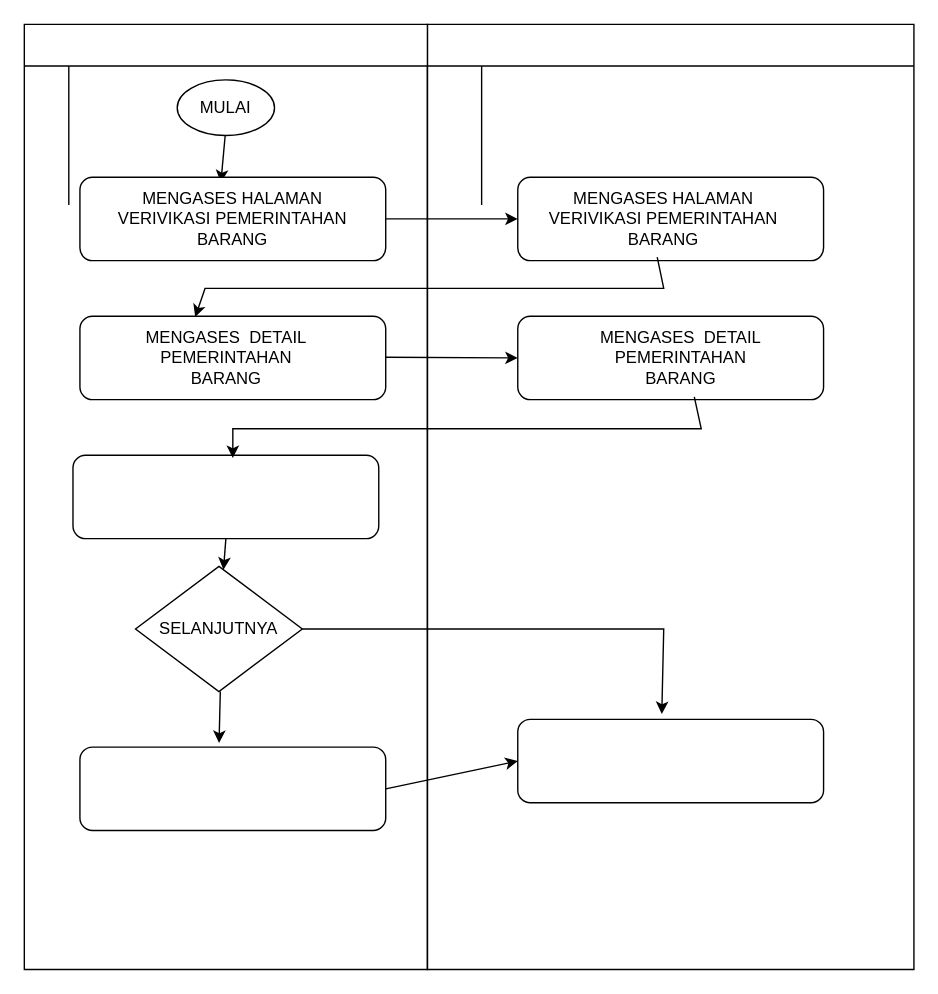
The diagram is 938 pixels wide and 994 high, and some of its shapes have lost their labels. The shapes that lost their labels are listed below. From the top down, each one's centre as x and y in pixels, then its label:
At pixel 225 496: "PERUBAHAN STATUSNYA PEMERINTAHAN BARANG".
At pixel 670 760: "MENYIMPAN DATA PEMERINTAAN BARANG".
At pixel 232 788: "MEMBERIKAN KETERANGAN PADA HALAMAN FORM PERSETUJUAN".
